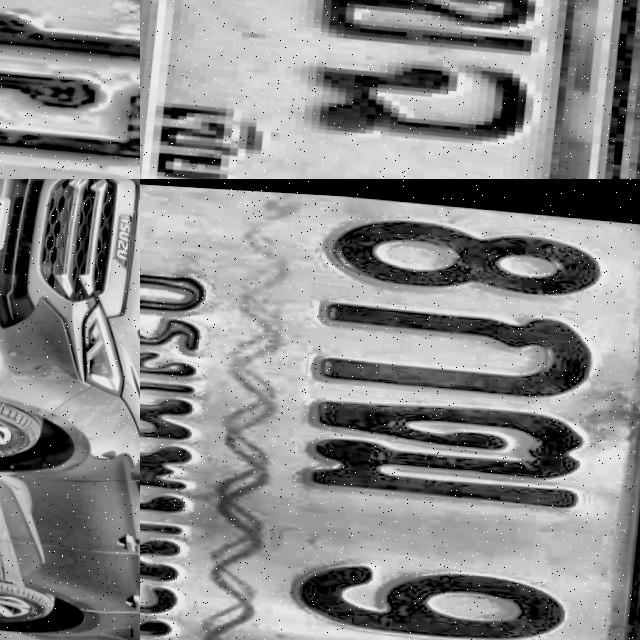license-plate: (140, 179, 640, 640), (140, 0, 640, 179), (0, 0, 140, 179), (0, 184, 20, 255)
